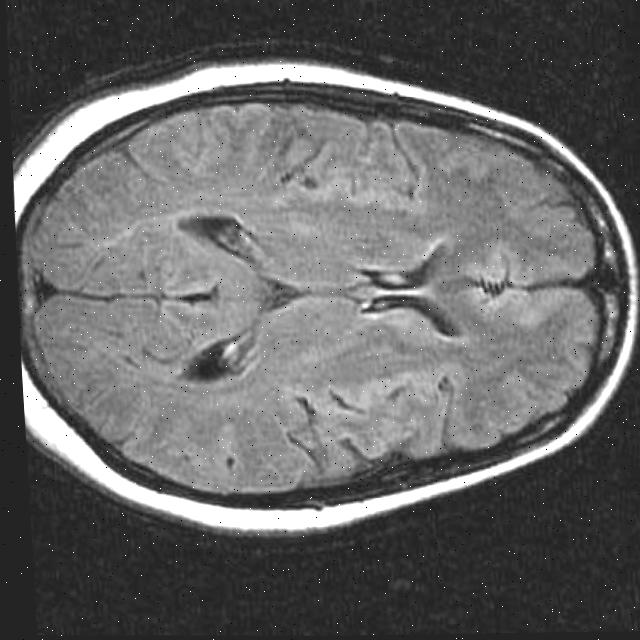NoTumor: (10, 87, 618, 510)
